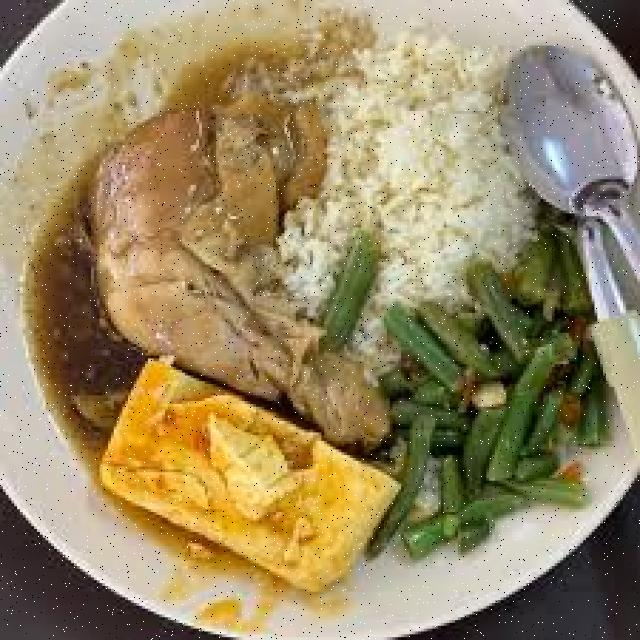Chicken: (88, 105, 387, 444)
Green veg: (370, 230, 603, 555), (321, 230, 375, 347)
Rice: (279, 26, 535, 370)
Tofu: (100, 358, 398, 589)
